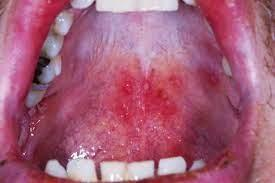Ulcer: (103, 63, 195, 145)
